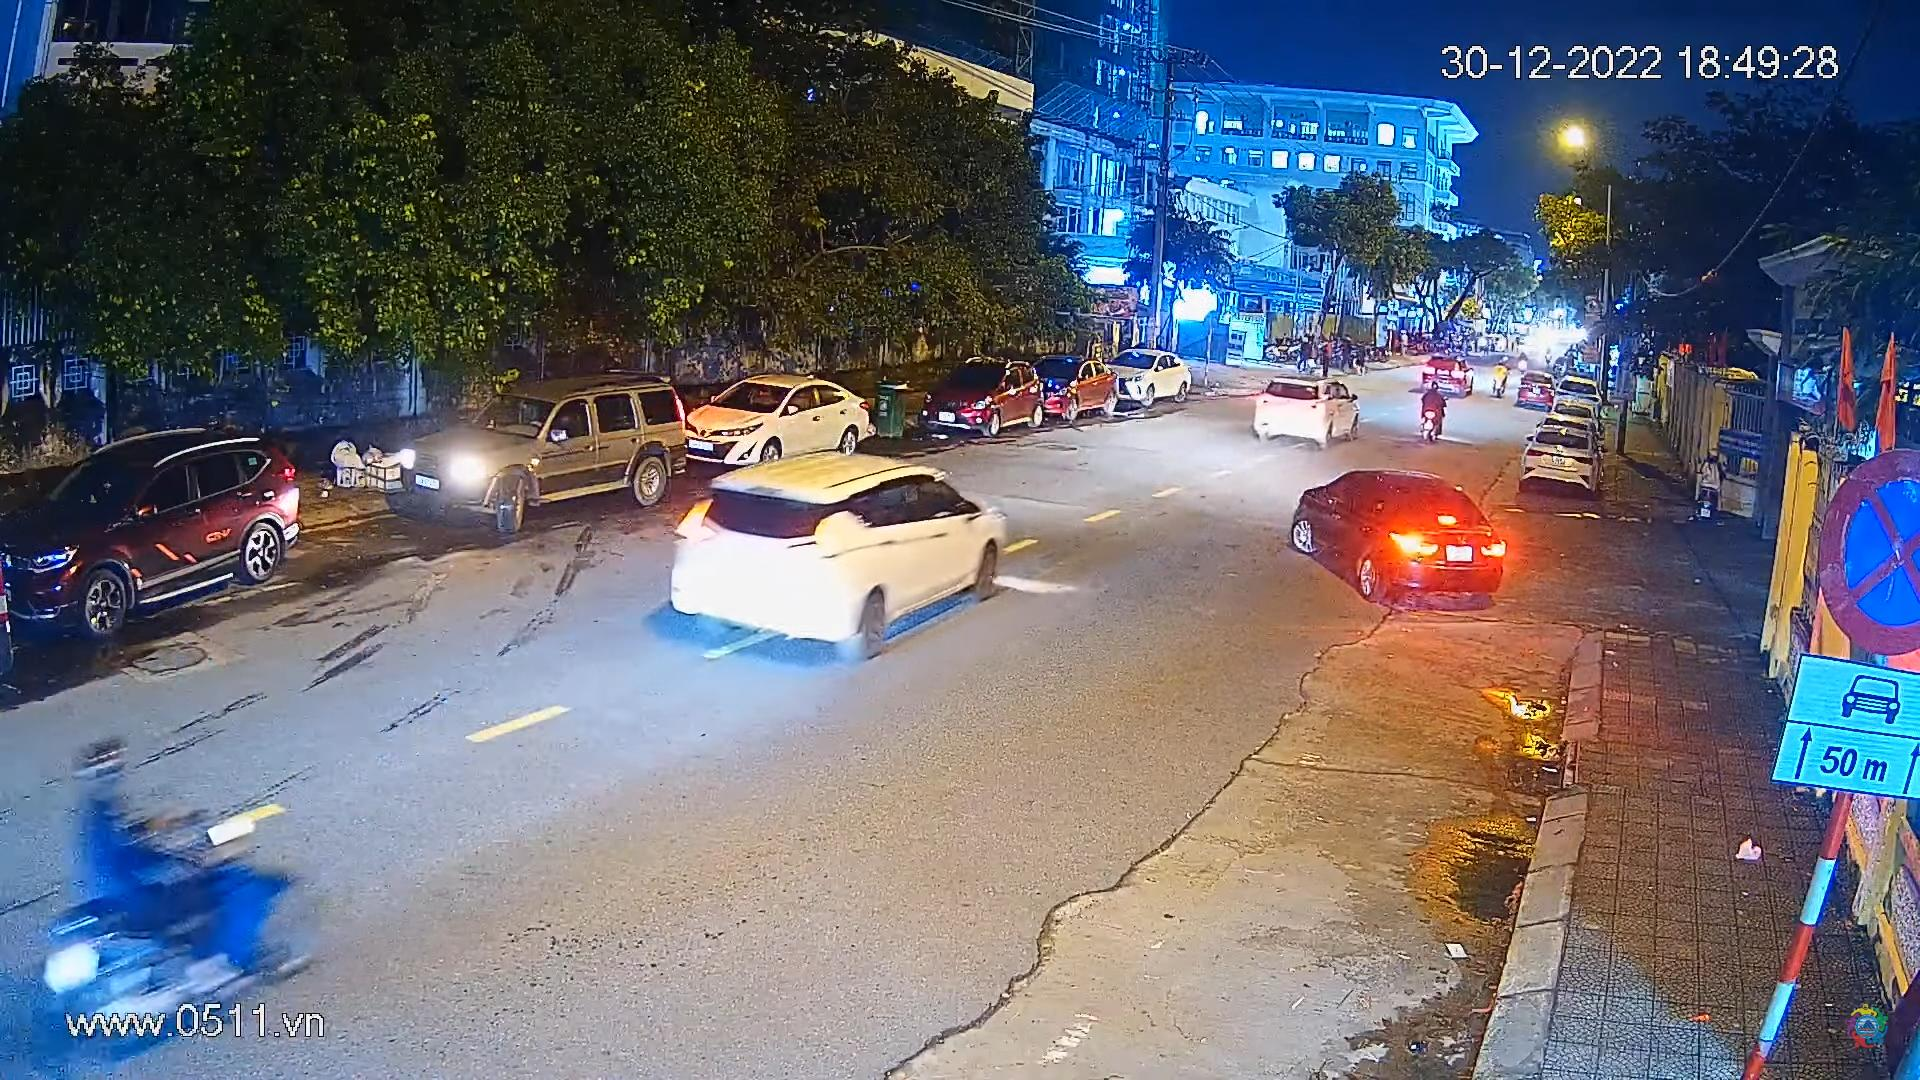car: (670, 458, 1005, 662), (0, 422, 309, 640), (401, 371, 686, 538), (1286, 469, 1513, 615), (694, 375, 876, 468), (906, 355, 1046, 440), (1251, 371, 1365, 450), (1035, 349, 1126, 427), (1520, 418, 1600, 505), (1105, 349, 1199, 410), (1422, 348, 1477, 401), (1551, 378, 1601, 419), (1518, 367, 1557, 414)
motorcycle: (0, 723, 340, 1048), (1691, 443, 1730, 524), (1416, 377, 1447, 440), (1490, 355, 1511, 396)
